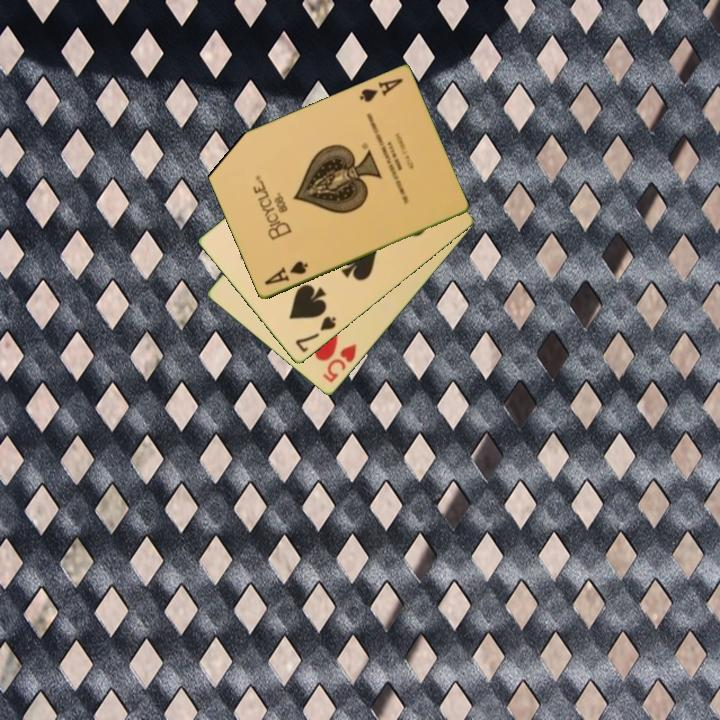5h: (319, 341, 360, 386)
7s: (292, 313, 339, 356)
As: (355, 75, 406, 106), (260, 258, 311, 288)
